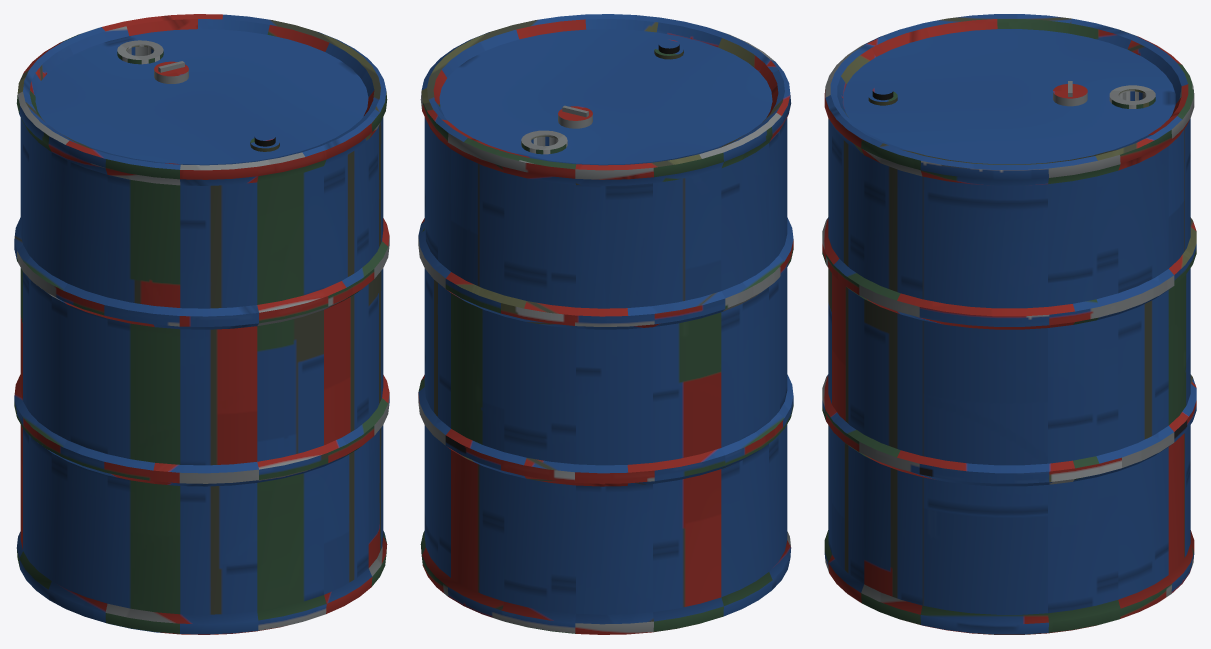
Rendered from open.obj.
The picture shows the model from 3 angles, left to right: view 1: azimuth 30°, elevation 25°; view 2: azimuth 150°, elevation 25°; view 3: azimuth 270°, elevation 25°; orthographic projection.
Visible parts, largest first — view 1: fuel_drum__body__shell, fuel_drum__open_bung__flange_ring, fuel_drum__body__bung_plug; view 2: fuel_drum__body__shell, fuel_drum__open_bung__flange_ring, fuel_drum__body__bung_plug; view 3: fuel_drum__body__shell, fuel_drum__open_bung__flange_ring, fuel_drum__body__bung_plug.
Boxes of the visible parts, bbox=[...] form: fuel_drum__body__shell: bbox=[14, 14, 389, 634]; fuel_drum__open_bung__flange_ring: bbox=[117, 40, 163, 64]; fuel_drum__body__bung_plug: bbox=[154, 61, 188, 83]; fuel_drum__body__shell: bbox=[418, 14, 793, 634]; fuel_drum__open_bung__flange_ring: bbox=[521, 130, 567, 154]; fuel_drum__body__bung_plug: bbox=[558, 105, 592, 128]; fuel_drum__body__shell: bbox=[822, 14, 1196, 634]; fuel_drum__open_bung__flange_ring: bbox=[1109, 85, 1155, 108]; fuel_drum__body__bung_plug: bbox=[1053, 81, 1087, 106].
Size of the model in its own units: 0.7222 by 1.01 by 0.7222.
